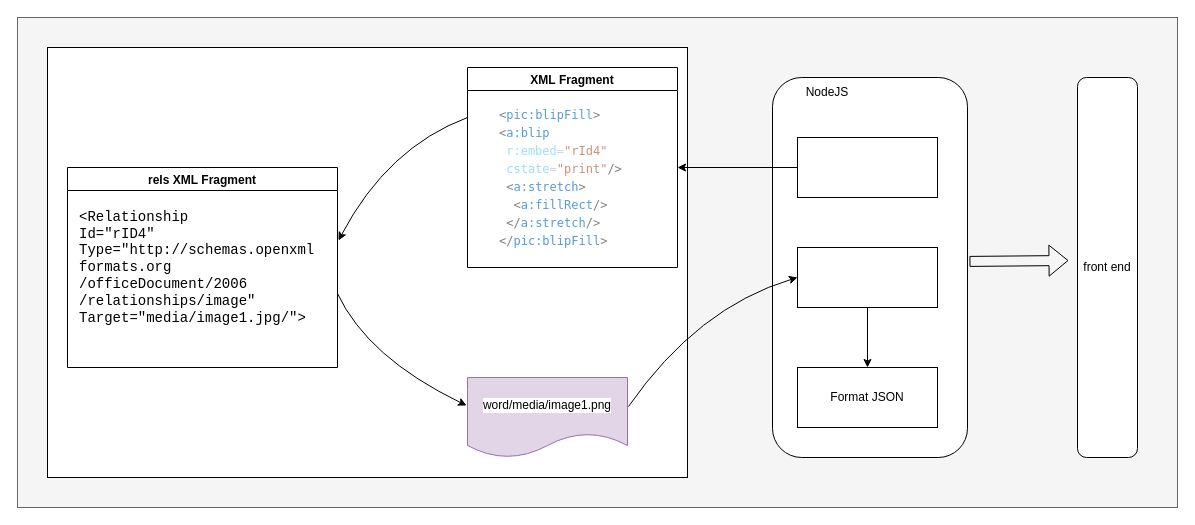
The diagram is 1195 pixels wide and 525 high, and some of its shapes have lost their labels. The centre of each missing label's shape, as x and y in pixels:
Read XML MODULES: point (867, 167)
upload Service: point (867, 277)
